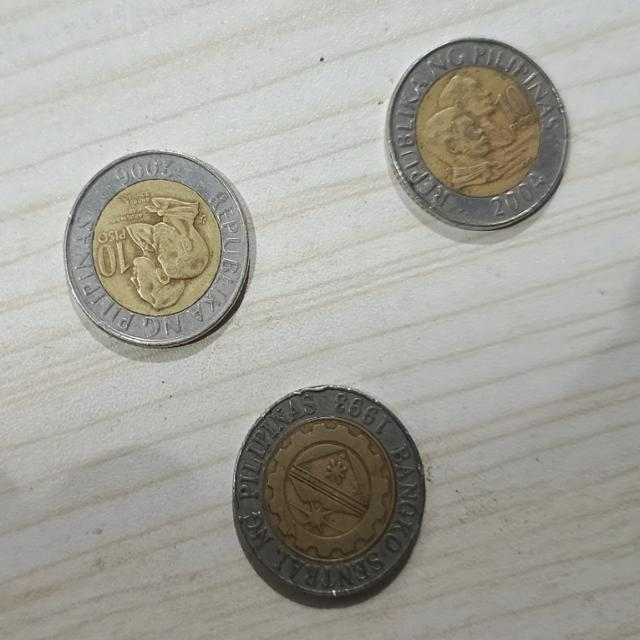10_peso: (234, 386, 424, 599), (65, 151, 252, 347), (388, 39, 567, 230)
